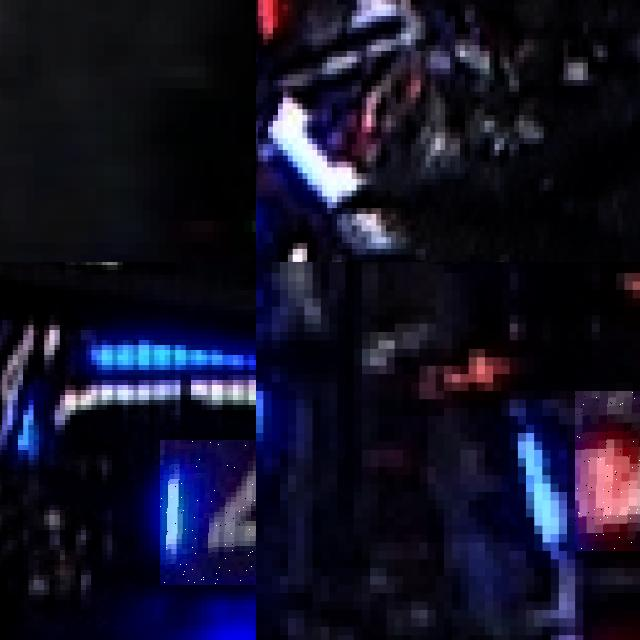B4: (159, 440, 256, 585)
R4: (575, 391, 640, 551)
